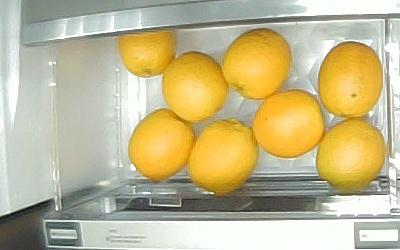orange: (187, 118, 259, 195), (221, 27, 292, 100), (316, 118, 386, 191), (129, 108, 196, 182), (318, 42, 383, 118), (253, 89, 324, 158), (162, 51, 228, 123), (119, 29, 176, 77)
